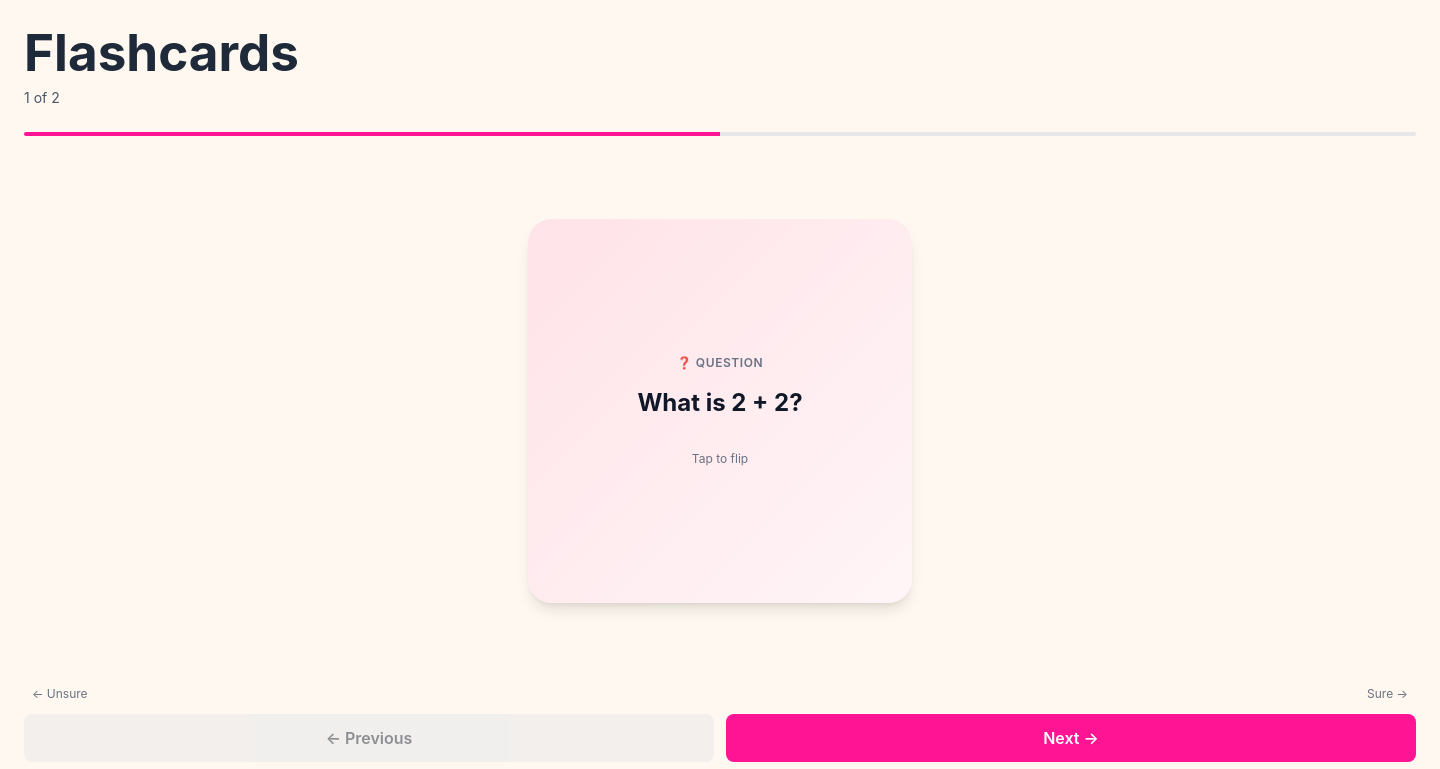
Test case: FlashcardDeck › Test 4: Buttons disabled during loading › should disable all buttons when isLoading=true
Note: Flip the card
Click the text "What is 2 + 2?".
click(720, 403)  # box [637,387,803,419]
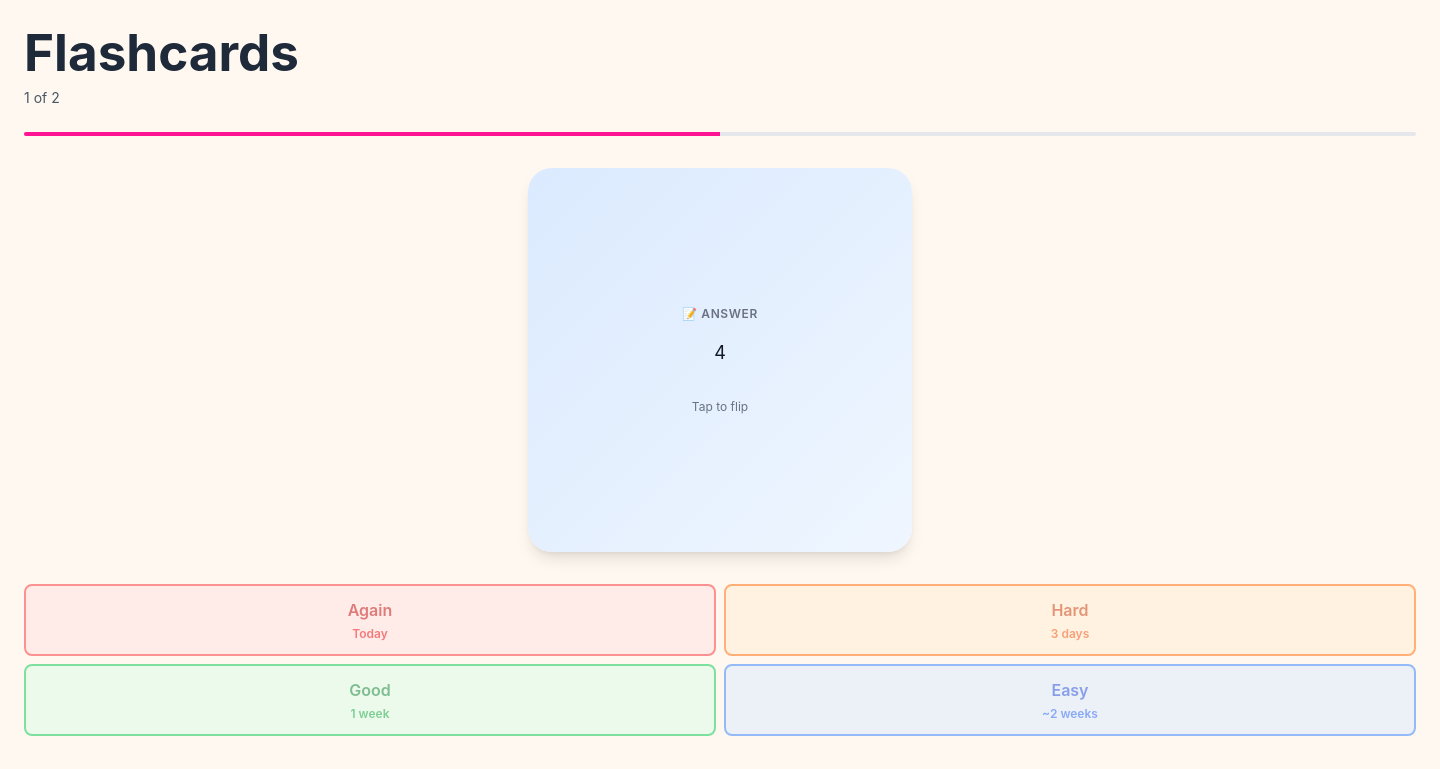
Now the button with test id "grade-again-button" is disabled, box [24,584,716,656]
Now the button with test id "grade-hard-button" is disabled, box [724,584,1416,656]
Now the button with test id "grade-good-button" is disabled, box [24,664,716,736]
